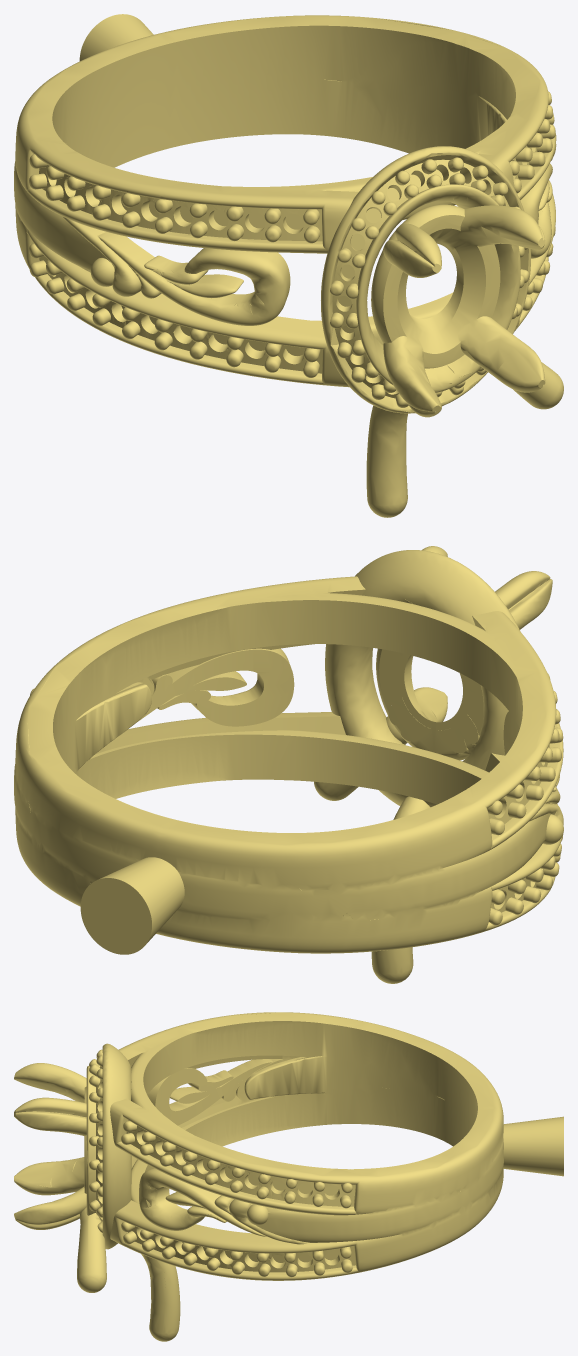
The picture shows the model from 3 angles, top to bottom: view 1: azimuth 30°, elevation 25°; view 2: azimuth 150°, elevation 25°; view 3: azimuth 270°, elevation 25°; orthographic projection. The views are drawn at different scales.
Visible parts, largest first — view 1: Renderer Node; view 2: Renderer Node; view 3: Renderer Node.
Boxes of the visible parts, bbox=[...] form: Renderer Node: bbox=[14, 14, 563, 517]; Renderer Node: bbox=[14, 546, 563, 983]; Renderer Node: bbox=[14, 1012, 563, 1341].
Size of the model in its own units: 20.58 by 16.53 by 28.45.
